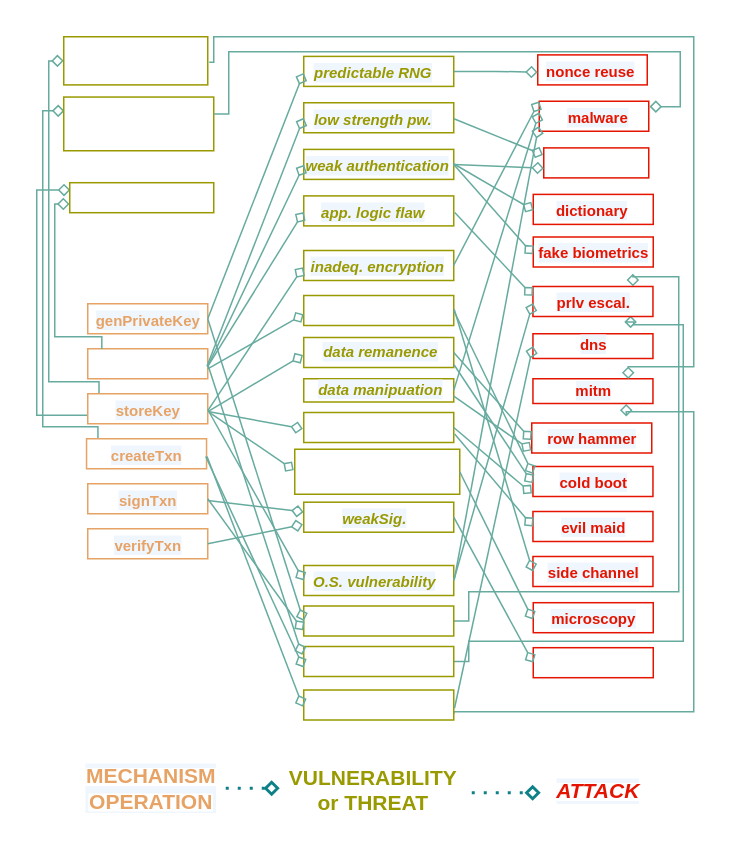
This 732x842 diagram has some shape labels left out. Here are the shapes that lost their labels. From the top down, the centre of each, then its label:
the point at 135,60: compromised provider
the point at 138,123: insecure user interactions
the point at 595,162: brute force
the point at 141,197: insider threat
the point at 378,310: data leakage
the point at 147,363: userAuth
the point at 378,426: InsBootEnvir
the point at 376,471: Micro-electrical Component Exposure
the point at 378,620: 3rd party library
the point at 378,660: coding errors
the point at 592,662: weak sig expl.
the point at 378,704: insecure network
